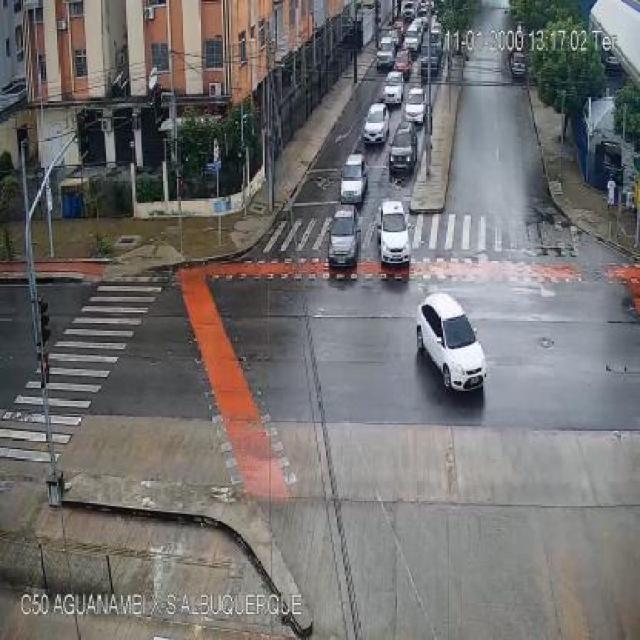Car: (417, 292, 487, 394), (324, 203, 363, 269), (375, 200, 414, 265), (387, 122, 419, 176), (340, 154, 370, 203), (362, 102, 390, 144), (404, 87, 428, 124), (382, 71, 404, 103), (375, 36, 395, 71), (394, 48, 412, 77), (511, 50, 527, 77), (404, 25, 422, 49)
